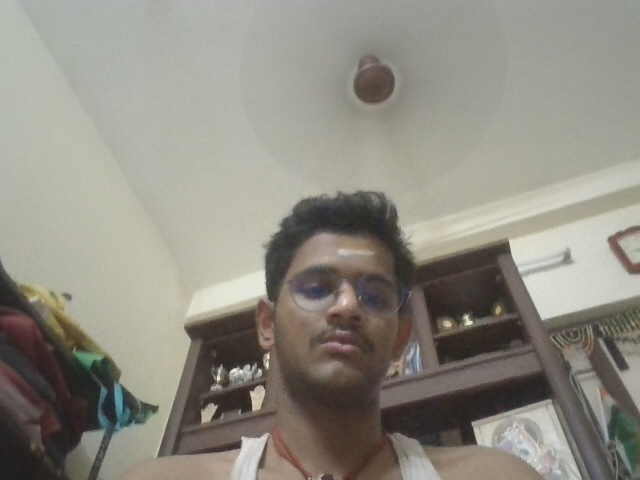real: (266, 224, 422, 380), (15, 401, 67, 453)
